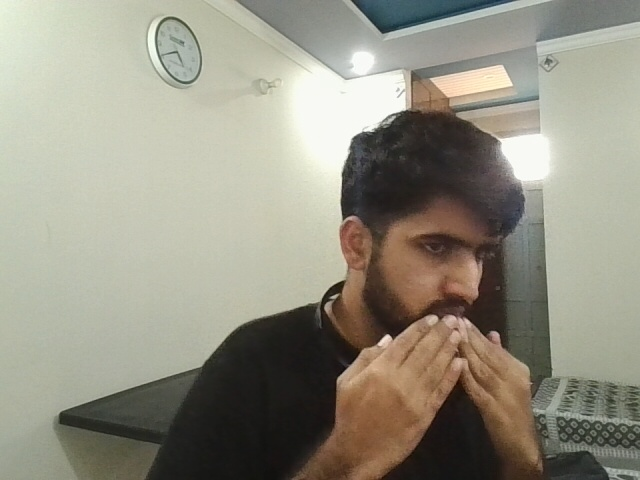Thanks: (298, 308, 566, 456)
